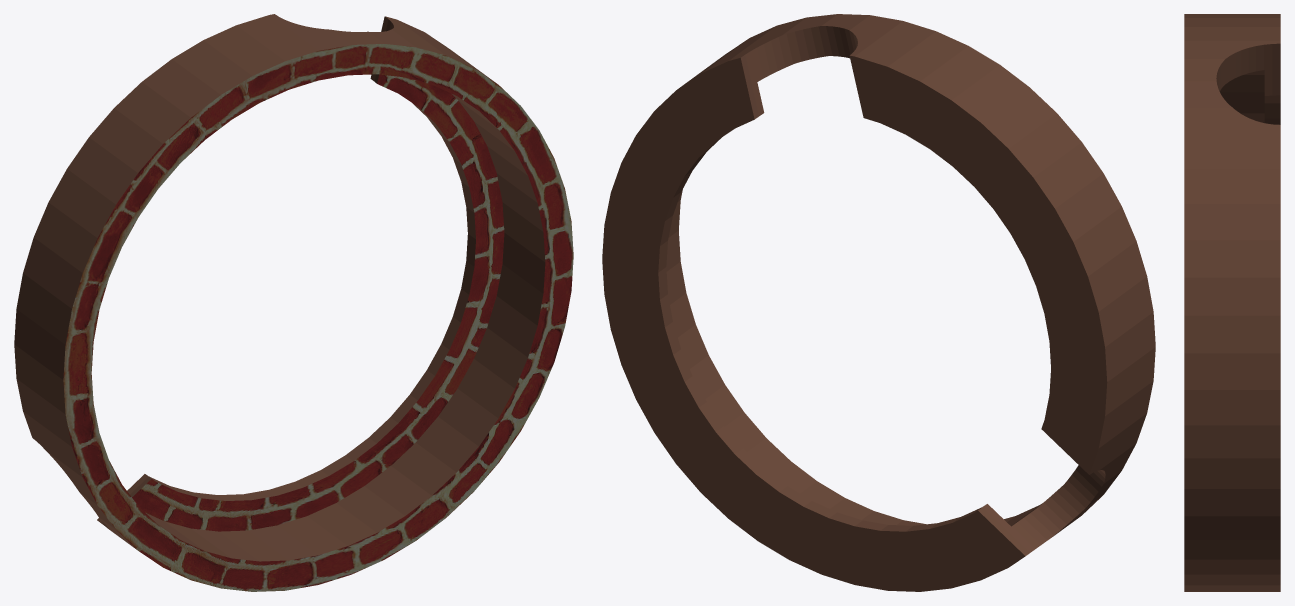
The model's file is pool_031.obj.
The picture shows the model from 3 angles, left to right: view 1: azimuth 30°, elevation 25°; view 2: azimuth 150°, elevation 25°; view 3: azimuth 270°, elevation 25°; orthographic projection.
Bounding box in the file's own units: 18 × 18 × 3.
